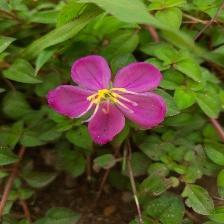malabar melastome: (44, 52, 170, 149)
